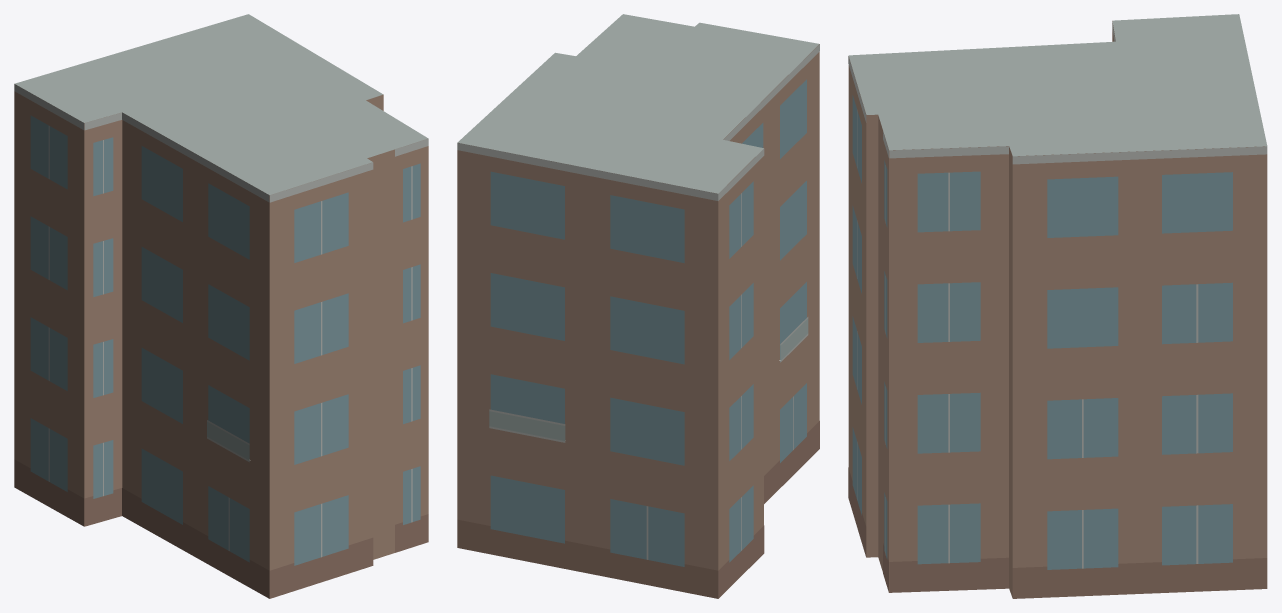
File: survey-upis-32516505.glb
3 views of the same model, side by side, from view 1: azimuth 30°, elevation 25°; view 2: azimuth 150°, elevation 25°; view 3: azimuth 270°, elevation 25° (orthographic). The views are drawn at different scales.
Parts seen in each view (by area): view 1: survey-upis-32516505.tmp; view 2: survey-upis-32516505.tmp; view 3: survey-upis-32516505.tmp.
Part boxes in pixels (bbox=[...]): survey-upis-32516505.tmp: bbox=[14, 14, 428, 598]; survey-upis-32516505.tmp: bbox=[457, 14, 819, 598]; survey-upis-32516505.tmp: bbox=[848, 14, 1267, 598].
Size of the model in its own units: 9.15 by 13.25 by 11.38.
